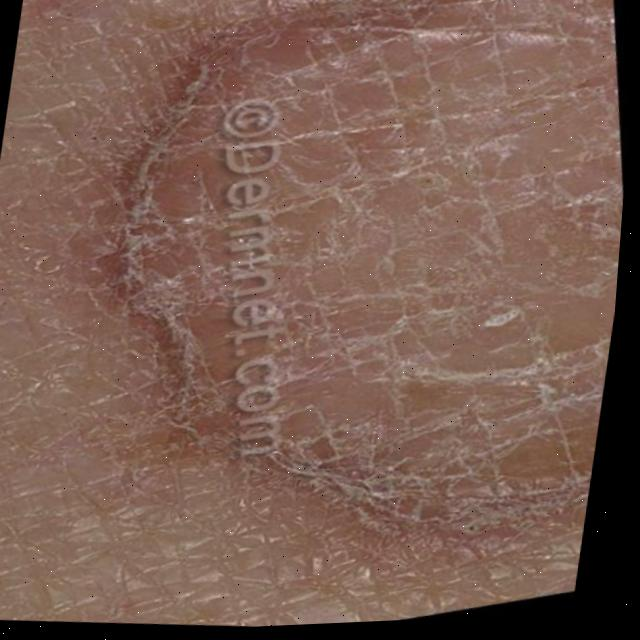Eczema: (124, 0, 597, 556)
